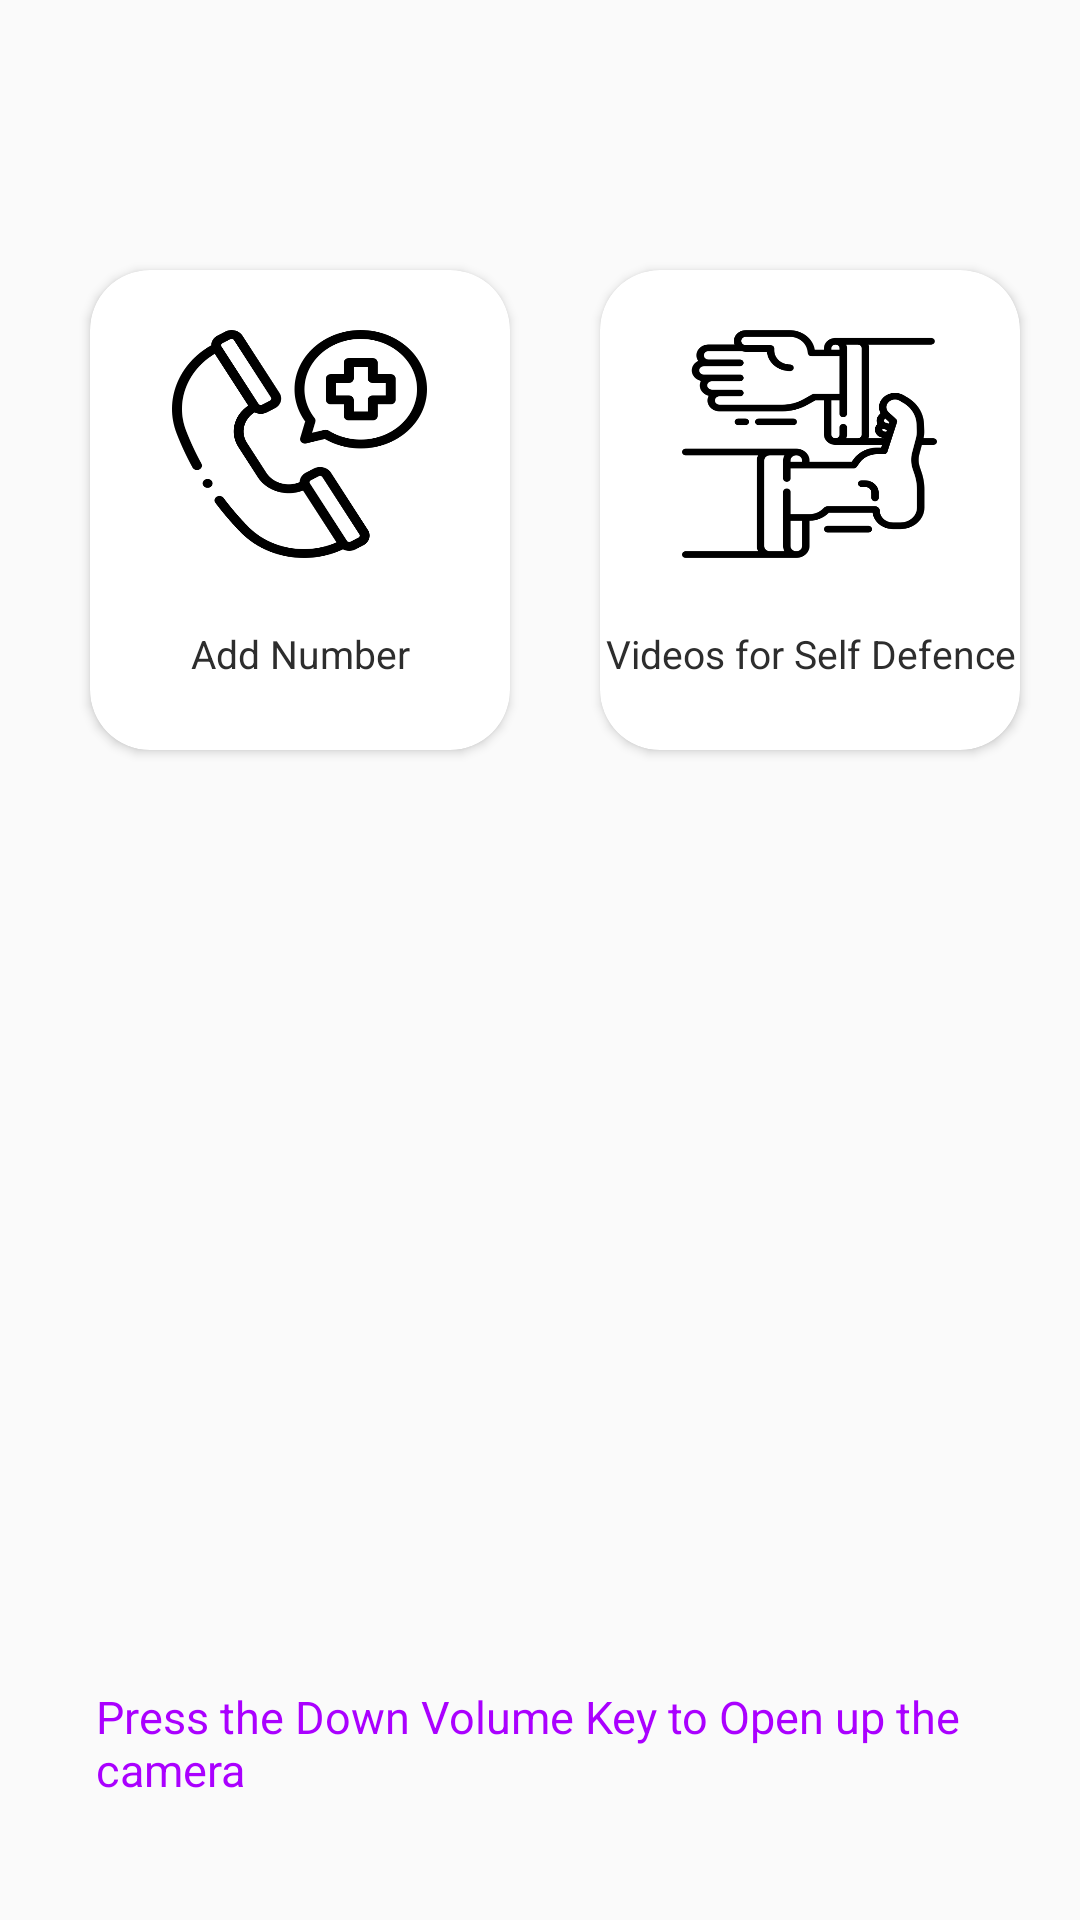

Icons on this 1080 x 1920 Android screen, each with its box as (x1, y1, x2, y2):
emergancy call: (172, 330, 427, 558)
